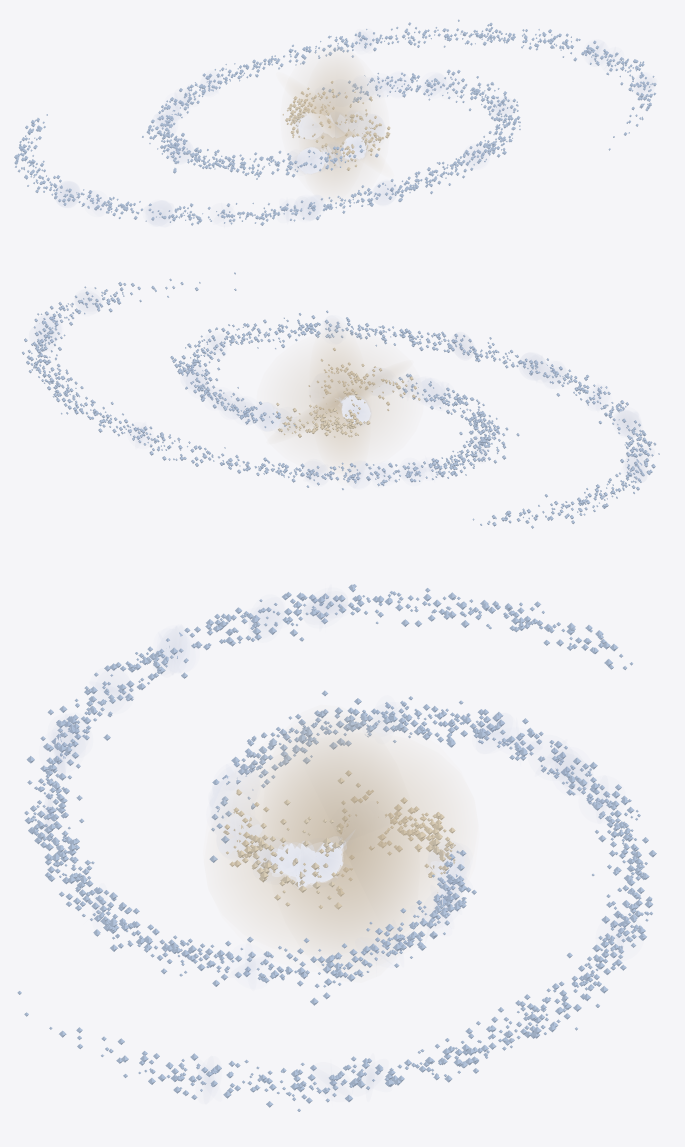
3 views of the same model, one above another, from view 1: azimuth 30°, elevation 25°; view 2: azimuth 150°, elevation 25°; view 3: azimuth 270°, elevation 25° (orthographic). The views are drawn at different scales.
Bounding box in the file's own units: 7.2 × 1.78 × 3.86.
